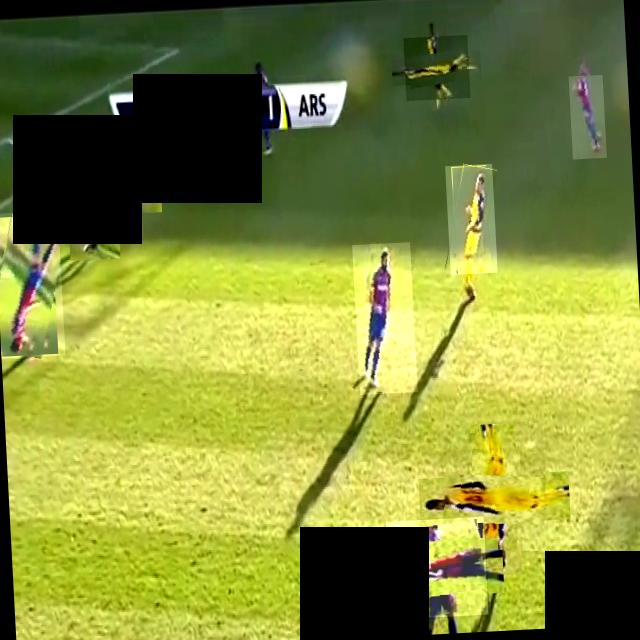soccer-player: (440, 446, 549, 554), (386, 516, 488, 620), (40, 140, 144, 242), (352, 242, 418, 395), (0, 210, 66, 358), (445, 164, 498, 275), (404, 35, 471, 101), (570, 74, 608, 160), (636, 558, 640, 624)
